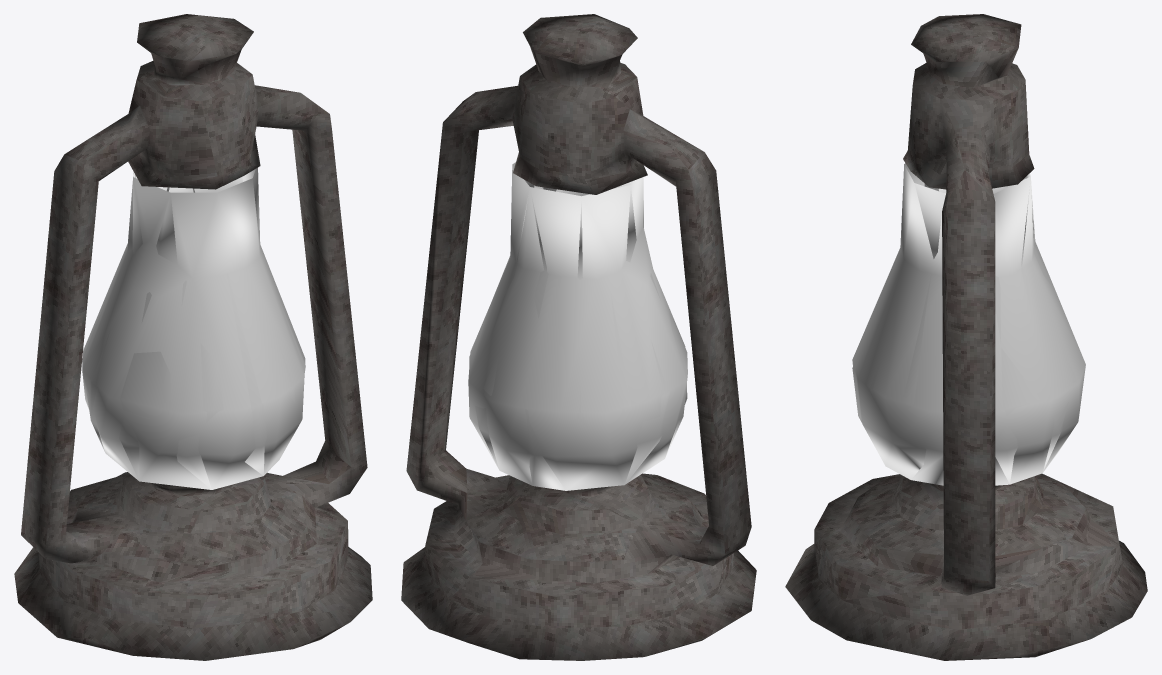
File: Lantern.fbx
3 views of the same model, side by side, from view 1: azimuth 30°, elevation 25°; view 2: azimuth 150°, elevation 25°; view 3: azimuth 270°, elevation 25° (orthographic).
Parts seen in each view (by area): view 1: Lantern_Cylinder; view 2: Lantern_Cylinder; view 3: Lantern_Cylinder.
Boxes of the visible parts, x1,y1,x2,y2 form: Lantern_Cylinder: (14,14,372,660); Lantern_Cylinder: (401,14,756,660); Lantern_Cylinder: (785,14,1147,660).
Size of the model in its own units: 75.12 by 125 by 73.31.
Materials: 2 (1 with a texture image).
